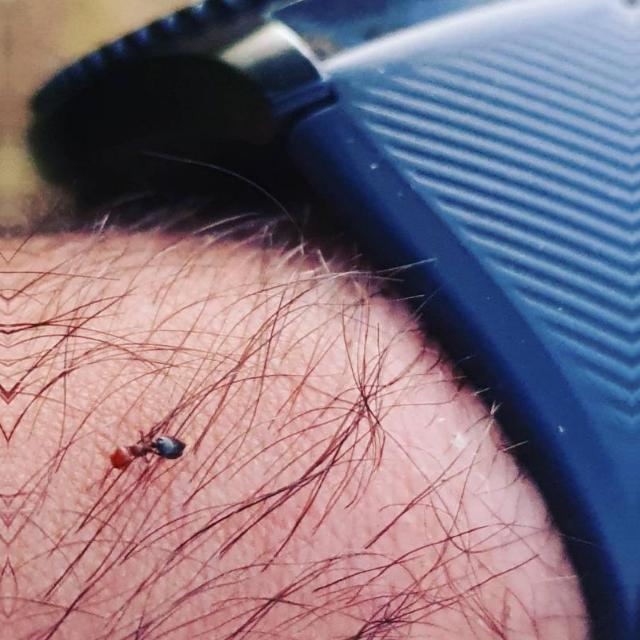Crematogaster: (98, 407, 194, 485)
